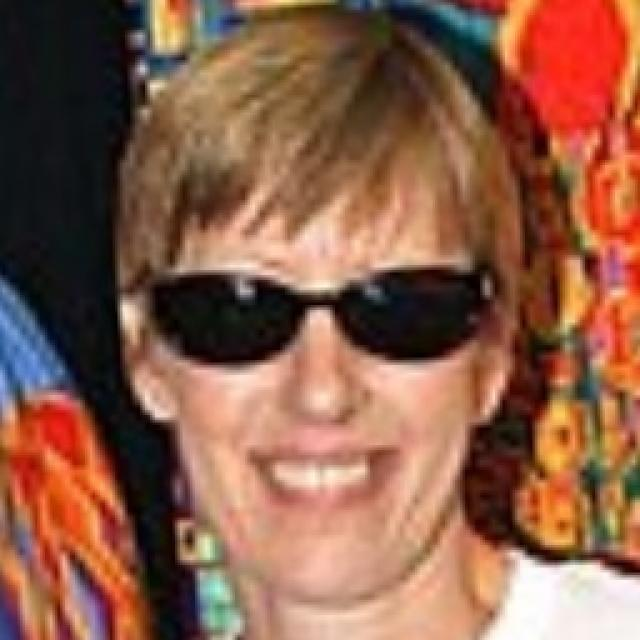glasses: (133, 261, 516, 386)
